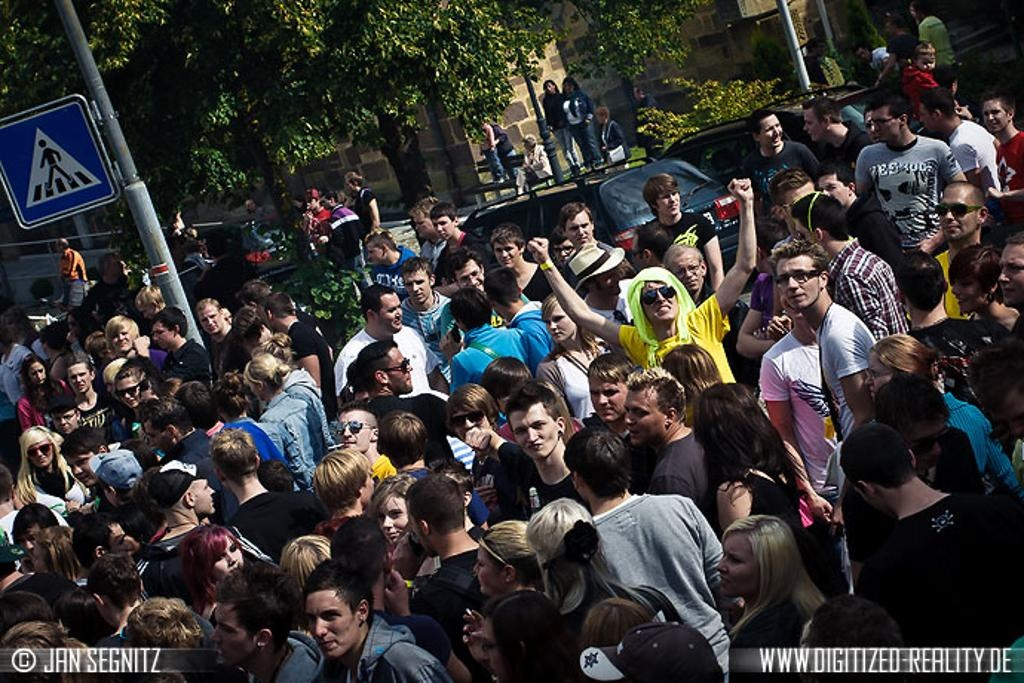human_face: (307, 594, 359, 657), (716, 538, 758, 596), (482, 620, 522, 680), (211, 608, 253, 664), (900, 421, 946, 470), (512, 410, 558, 457), (624, 394, 666, 443), (939, 189, 979, 240), (776, 260, 818, 308), (588, 374, 630, 420), (472, 550, 512, 592), (204, 538, 244, 580), (864, 359, 898, 406), (452, 404, 488, 446), (998, 249, 1024, 305), (641, 280, 677, 318), (952, 274, 988, 312), (336, 413, 372, 451), (102, 526, 132, 570), (410, 512, 440, 556), (19, 528, 57, 562), (376, 498, 404, 544), (67, 449, 99, 485), (184, 474, 214, 512), (546, 304, 576, 342), (372, 296, 402, 332), (386, 350, 412, 391), (870, 108, 900, 140), (670, 256, 700, 288), (819, 176, 847, 209), (590, 264, 620, 294), (456, 264, 484, 296), (630, 237, 654, 272), (566, 213, 592, 245), (146, 423, 172, 454), (494, 237, 520, 268), (352, 466, 374, 502), (26, 436, 52, 466), (404, 272, 430, 300), (654, 187, 680, 213), (984, 103, 1008, 131), (757, 118, 781, 146), (865, 113, 887, 142), (116, 380, 140, 406), (68, 364, 90, 391), (54, 408, 76, 434), (413, 211, 435, 237), (803, 112, 823, 140), (920, 105, 942, 130), (110, 326, 132, 350), (199, 308, 221, 332), (153, 322, 173, 346), (433, 215, 453, 239), (246, 374, 264, 400), (366, 245, 388, 265), (106, 378, 124, 401), (28, 363, 46, 383), (104, 258, 122, 278), (920, 51, 936, 71), (6, 317, 22, 335), (68, 315, 80, 337), (855, 48, 869, 60), (910, 6, 922, 20), (344, 180, 354, 194), (814, 42, 824, 56), (320, 197, 330, 209), (562, 80, 572, 91), (544, 83, 554, 93), (886, 22, 894, 34), (596, 112, 604, 123), (247, 200, 255, 210), (523, 139, 531, 149), (293, 200, 301, 208)
